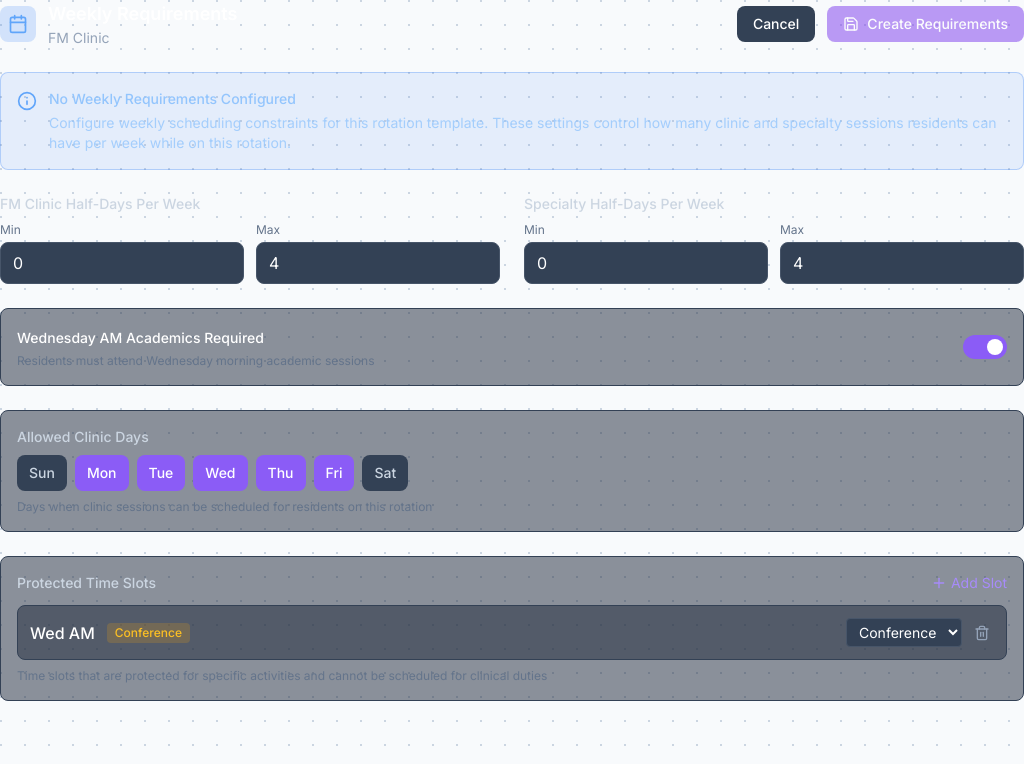
Scenario: WeeklyRequirementsEditor › Protected Slots › shows add slot form when clicked
The width and height of the screenshot is (1024, 764).
Step 1. Click the button "Add Slot" → (969, 583), box [931,573,1007,593]
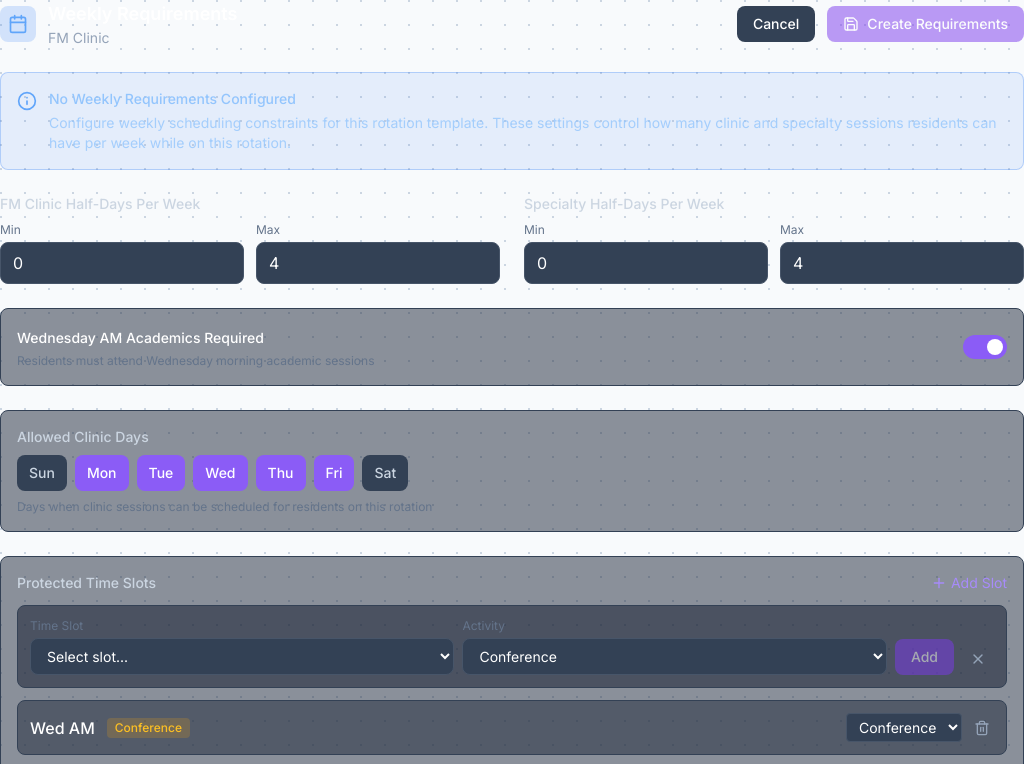
Expected: the text "Time Slot" is shown, [30,618,83,633]
Expected: the text "Activity" is shown, [462,618,505,633]
